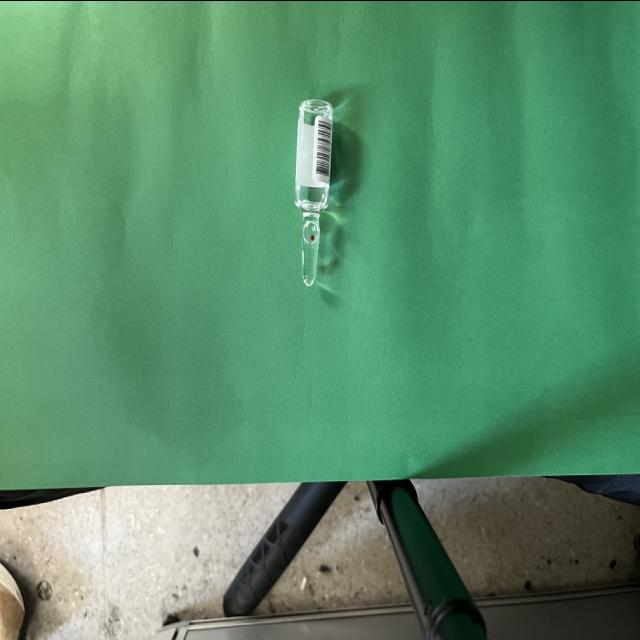Ampoules: (296, 99, 334, 285)
